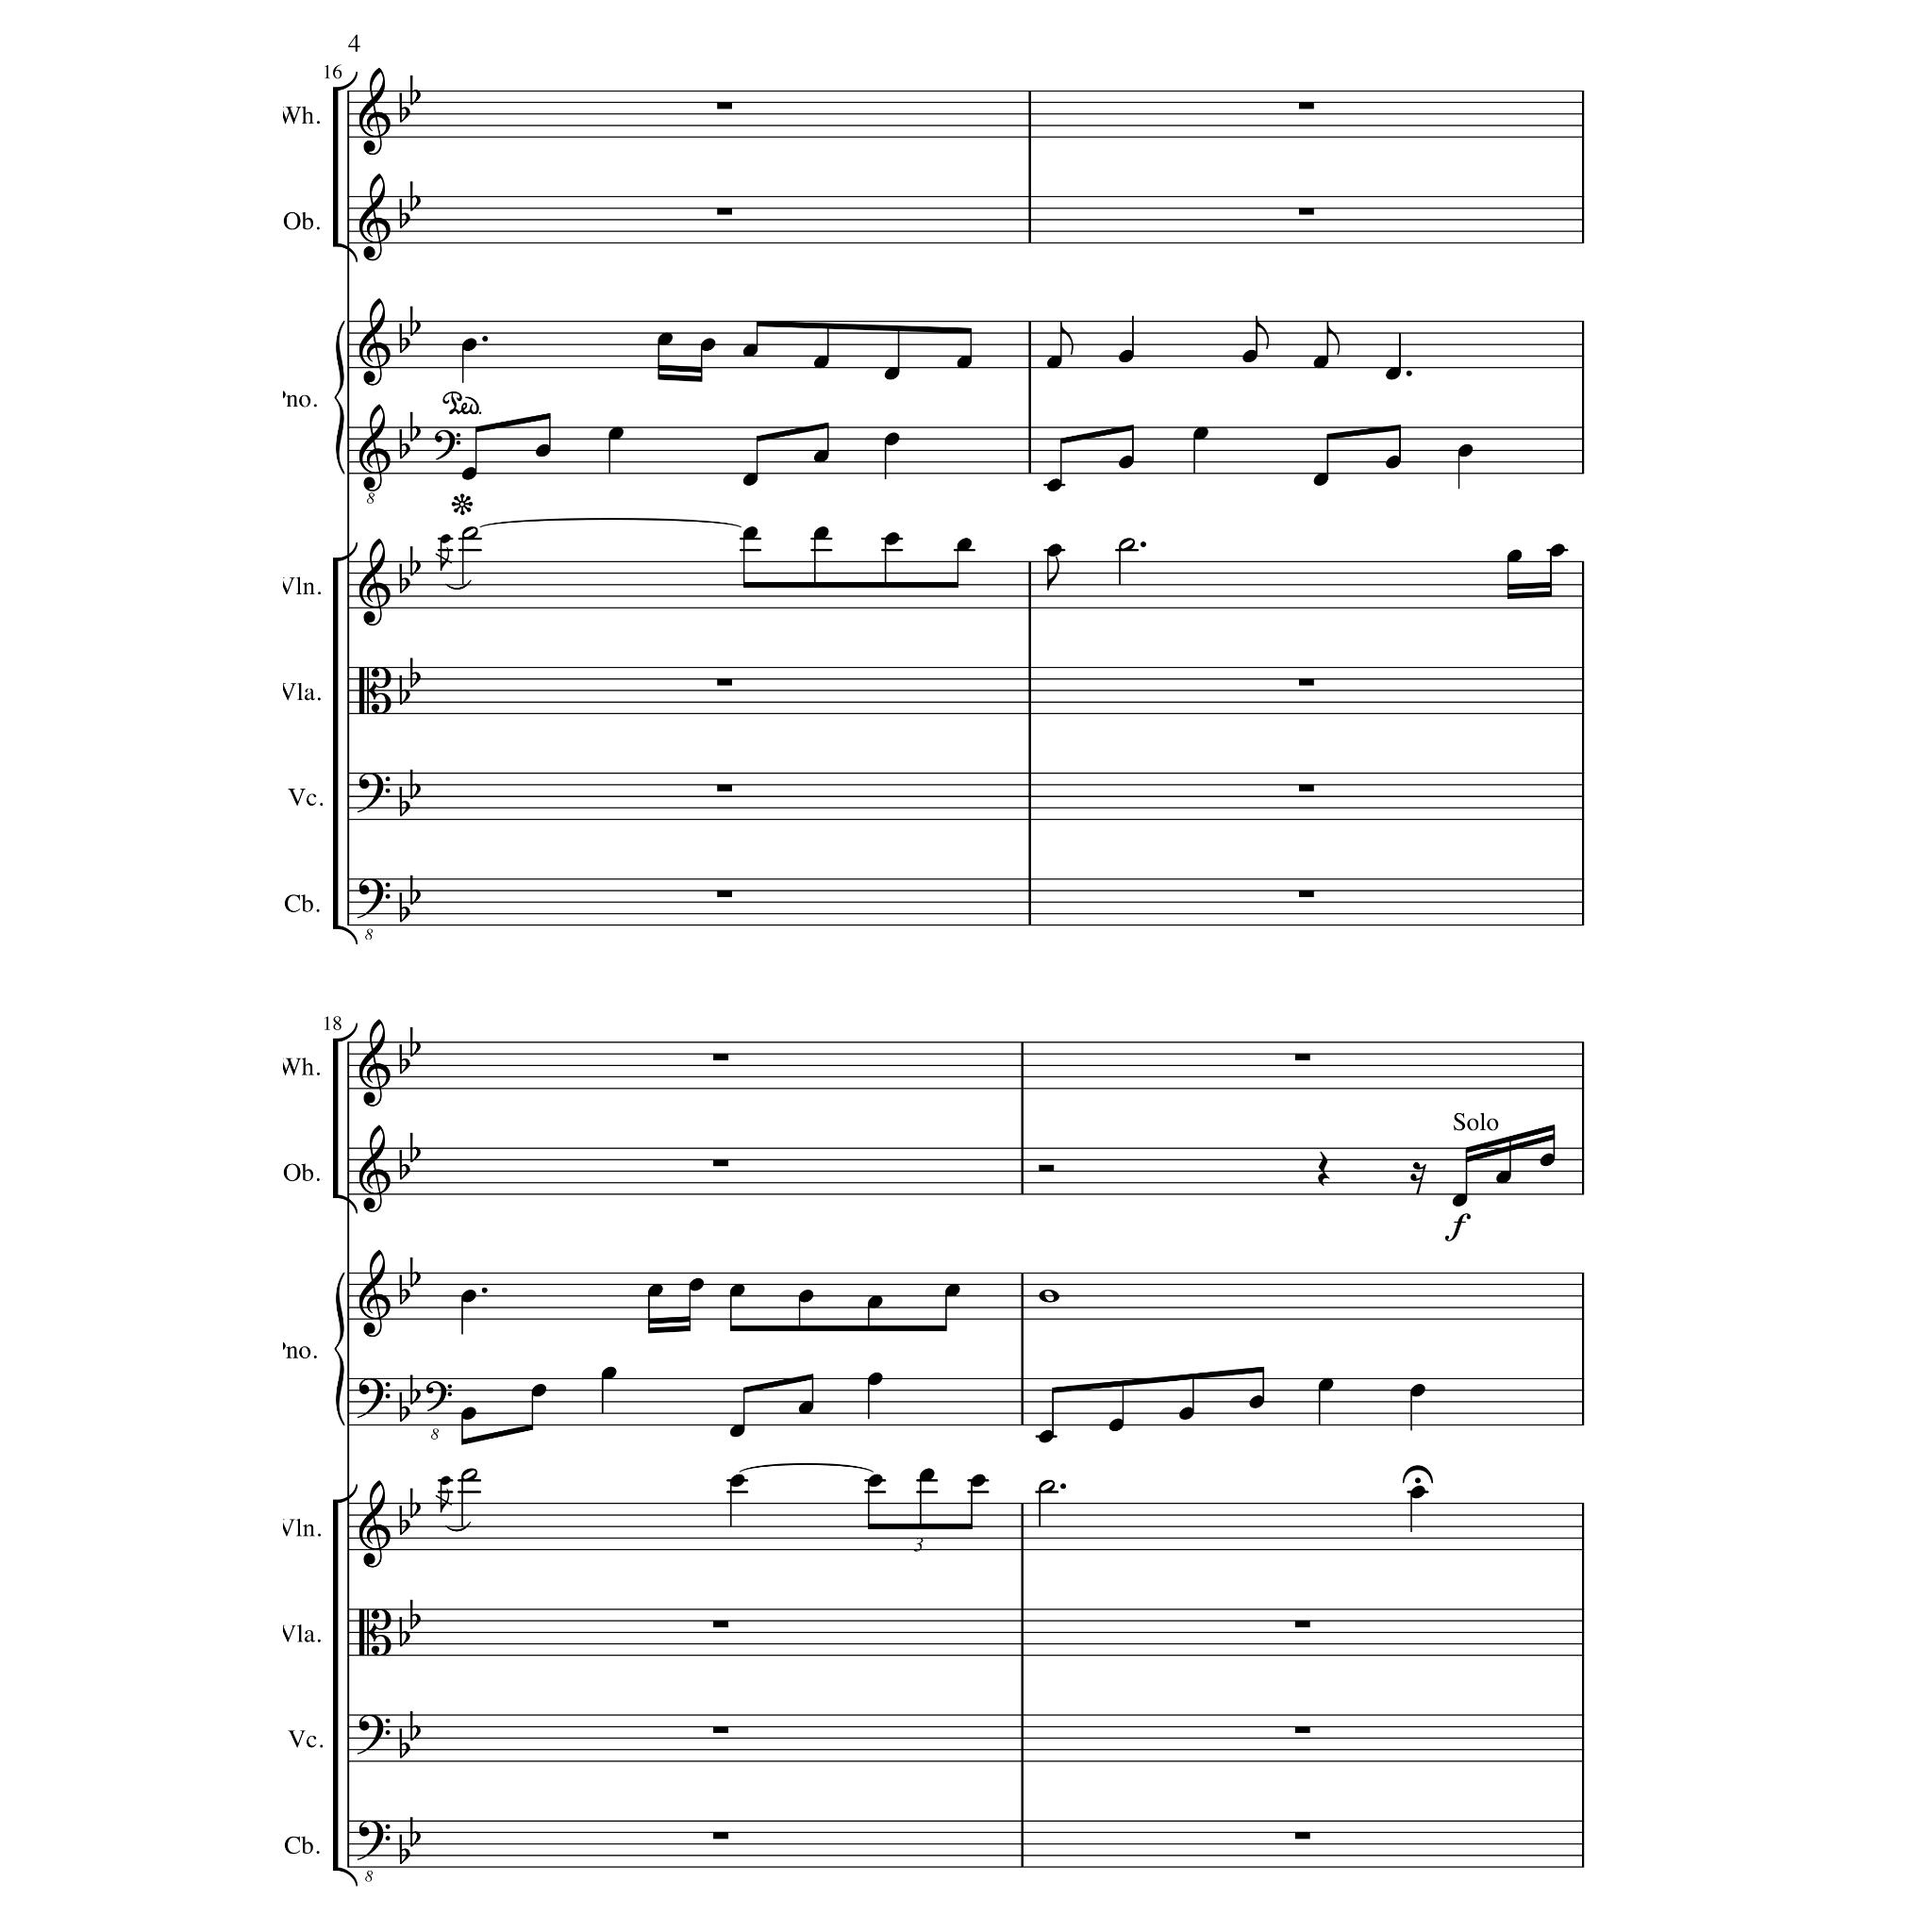brace: (333, 321, 344, 475), (333, 1272, 344, 1426)
fClef: (357, 1377, 391, 1419), (357, 879, 391, 919), (357, 774, 391, 813), (357, 1821, 391, 1860), (357, 1715, 391, 1755)
flag8thDown: (434, 547, 453, 577), (434, 1489, 453, 1519), (1047, 557, 1058, 591)
flag8thUp: (1060, 322, 1074, 356), (1326, 322, 1340, 356), (1256, 316, 1269, 350)
gClef: (358, 538, 391, 626), (358, 404, 391, 492), (358, 298, 391, 387), (358, 174, 391, 262), (358, 67, 391, 156), (358, 1480, 391, 1569), (358, 1249, 391, 1338), (358, 1124, 391, 1213), (358, 1019, 391, 1108)
noteheadBlack: (1385, 366, 1402, 381), (460, 338, 477, 353), (883, 366, 900, 381), (1409, 1485, 1426, 1500), (1317, 1377, 1334, 1392), (700, 338, 715, 353), (1496, 1170, 1511, 1185), (1192, 427, 1209, 441), (1385, 456, 1402, 469), (1241, 350, 1258, 363), (1457, 444, 1474, 458), (460, 467, 477, 480), (741, 526, 758, 540), (883, 532, 900, 545), (883, 432, 900, 445), (608, 427, 625, 441), (741, 473, 758, 486), (741, 344, 758, 358), (657, 333, 674, 346), (1108, 1419, 1124, 1432), (1038, 1430, 1055, 1443), (970, 1474, 987, 1487), (1409, 1384, 1426, 1397), (1451, 1193, 1468, 1207), (600, 1367, 617, 1380), (530, 1384, 547, 1397), (728, 1474, 745, 1487), (728, 1424, 745, 1438), (728, 1284, 745, 1297), (1119, 456, 1134, 469), (1119, 350, 1134, 363), (1047, 356, 1062, 369), (1047, 479, 1062, 492), (1047, 544, 1062, 558), (1313, 473, 1328, 486), (1313, 356, 1328, 369), (1549, 544, 1564, 558), (1507, 550, 1522, 563), (957, 356, 972, 369), (813, 526, 828, 540), (813, 450, 828, 463), (813, 356, 828, 369), (957, 538, 972, 551), (536, 444, 551, 458), (1179, 1407, 1194, 1421), (1249, 1395, 1264, 1408), (1540, 1153, 1555, 1166), (460, 1407, 475, 1421), (460, 1290, 475, 1303), (798, 1401, 813, 1414), (798, 1290, 813, 1303), (868, 1295, 883, 1308), (945, 1284, 960, 1297), (919, 1468, 934, 1481), (868, 1474, 883, 1487), (868, 1373, 883, 1386), (647, 1284, 662, 1297), (689, 1278, 704, 1291), (440, 534, 451, 543), (440, 1475, 451, 1485)
noteheadHalf: (1118, 538, 1135, 551), (461, 526, 478, 540), (1039, 1480, 1056, 1493), (460, 1468, 477, 1481)
noteheadWhole: (1038, 1290, 1060, 1303)
rest16th: (1409, 1162, 1426, 1196)
restHalf: (1038, 1165, 1055, 1173)
restQuarter: (1317, 1151, 1330, 1187)
restWhole: (1294, 1832, 1311, 1840), (1294, 1726, 1311, 1734), (1294, 1621, 1311, 1628), (1294, 1054, 1311, 1061), (1298, 891, 1313, 898), (1298, 785, 1313, 792), (1298, 678, 1313, 686), (1298, 208, 1313, 216), (1298, 102, 1313, 109), (717, 891, 732, 898), (717, 785, 732, 792), (717, 678, 732, 686), (717, 208, 732, 216), (717, 102, 732, 109), (713, 1832, 728, 1840), (713, 1726, 728, 1734), (713, 1621, 728, 1628), (713, 1159, 728, 1167), (713, 1054, 728, 1061)
